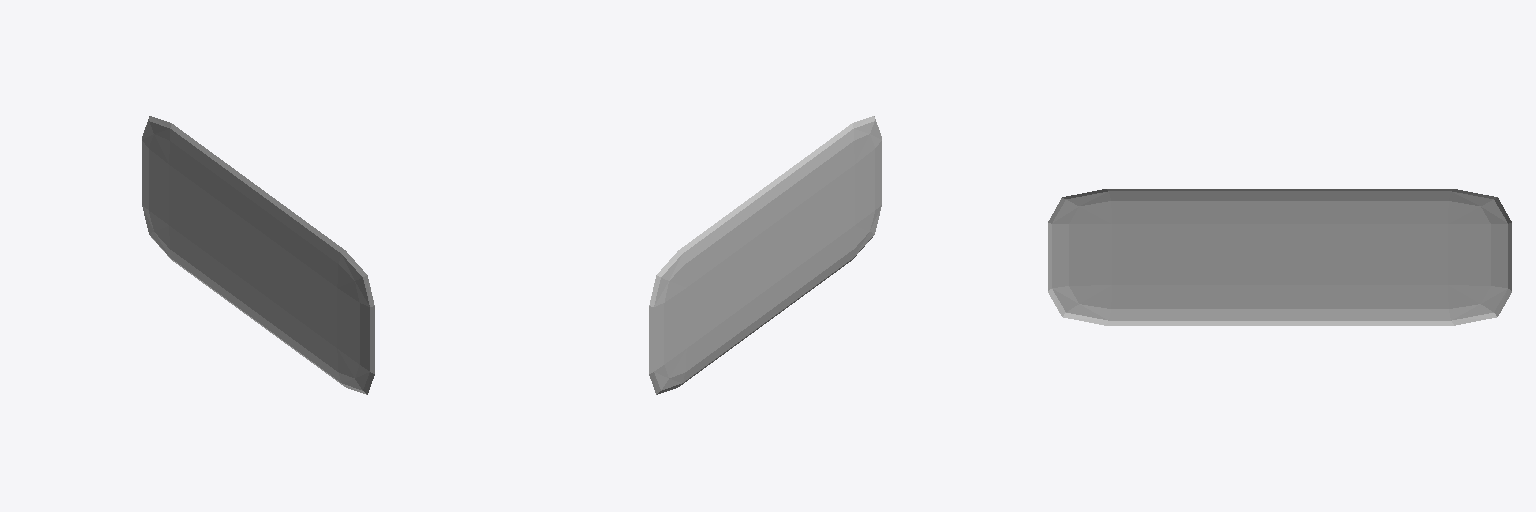
Rendered from monitorScreen.obj.
3 renders of one model, left to right at view 1: azimuth 30°, elevation 25°; view 2: azimuth 150°, elevation 25°; view 3: azimuth 270°, elevation 25°, orthographic.
Visible parts, largest first — view 1: monitorScreen.obj; view 2: monitorScreen.obj; view 3: monitorScreen.obj.
Boxes of the visible parts, x1,y1,x2,y2 form: monitorScreen.obj: [142, 116, 374, 394]; monitorScreen.obj: [649, 116, 881, 394]; monitorScreen.obj: [1048, 189, 1511, 325].
Size of the model in its own units: 0.0118 by 0.2915 by 0.8961.